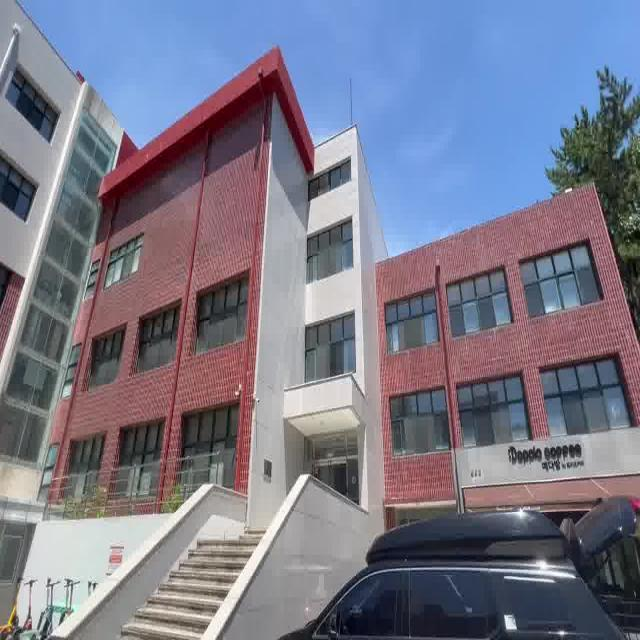building: (23, 47, 620, 520)
